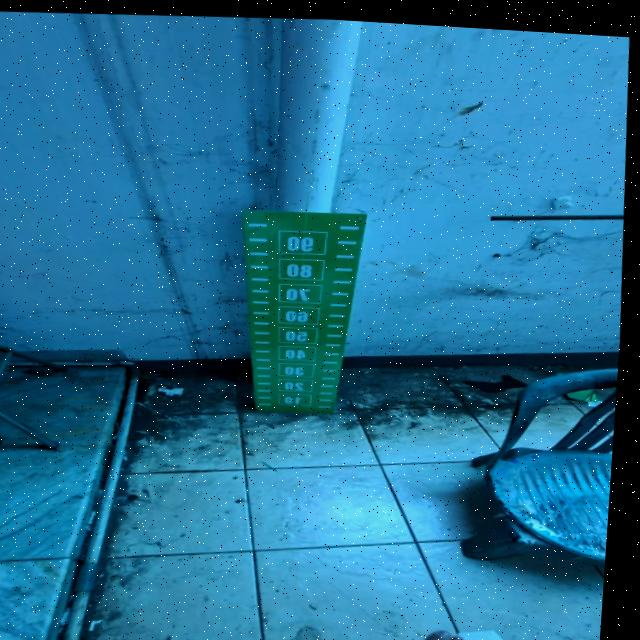water-meter: (217, 198, 391, 429)
